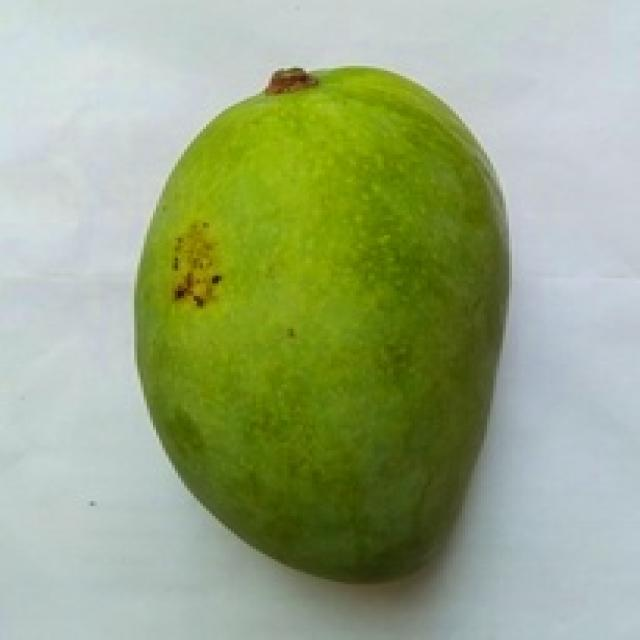Mango: (137, 68, 503, 579)
